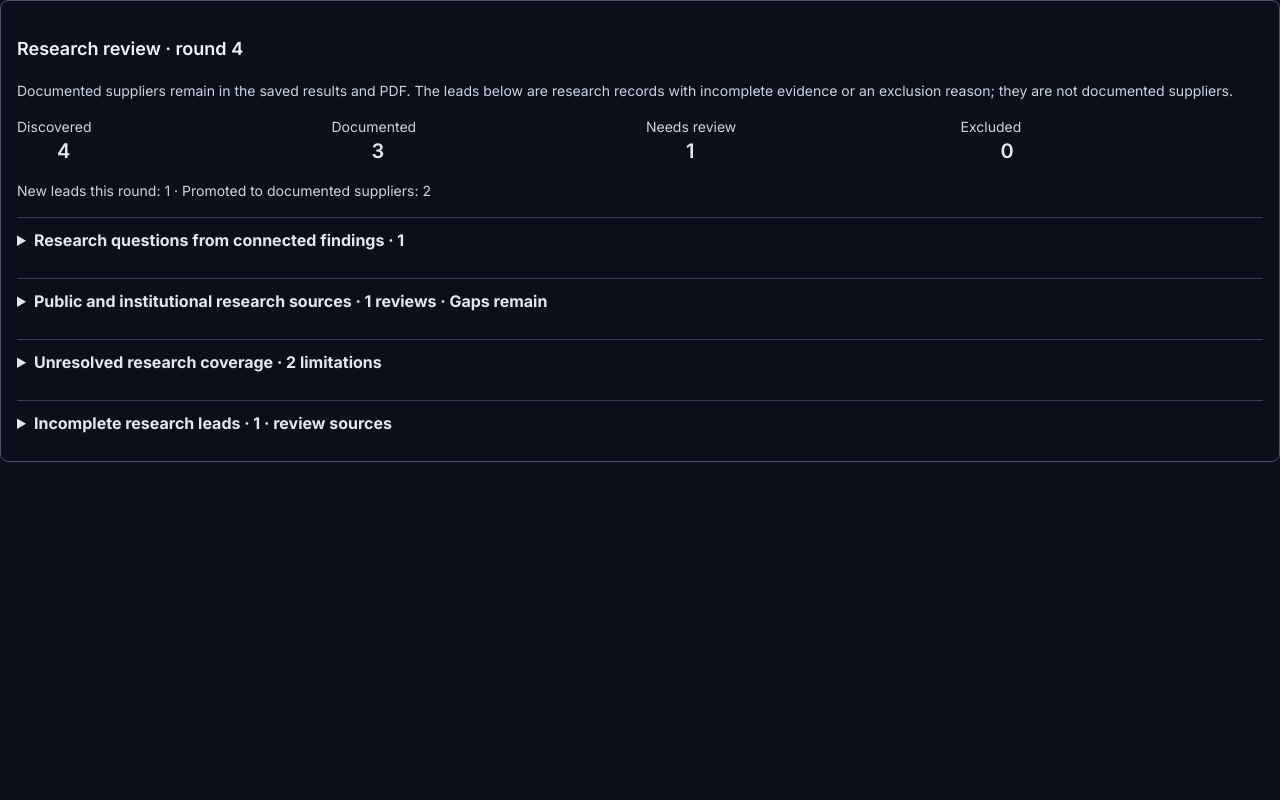
it: MB-UX-QUALITY-001 L11 keeps provider citations and limited access distinct from retrieved official evidence
Click the heading "Public and institutional research sources" at coordinates (291, 301), box top-left (34, 291), bottom-right (547, 311)
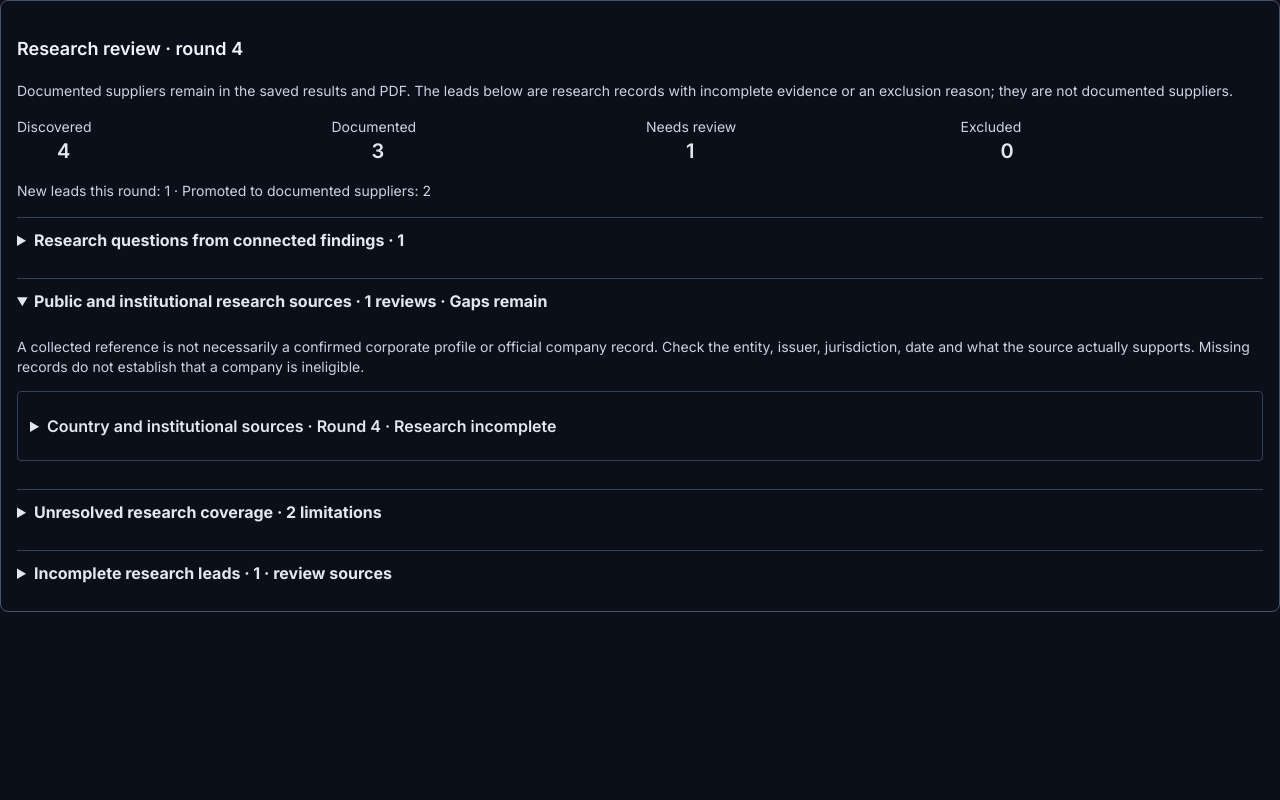
Click the heading "Country and institutional sources · Round 4" at coordinates (302, 426), box top-left (47, 416), bottom-right (556, 436)
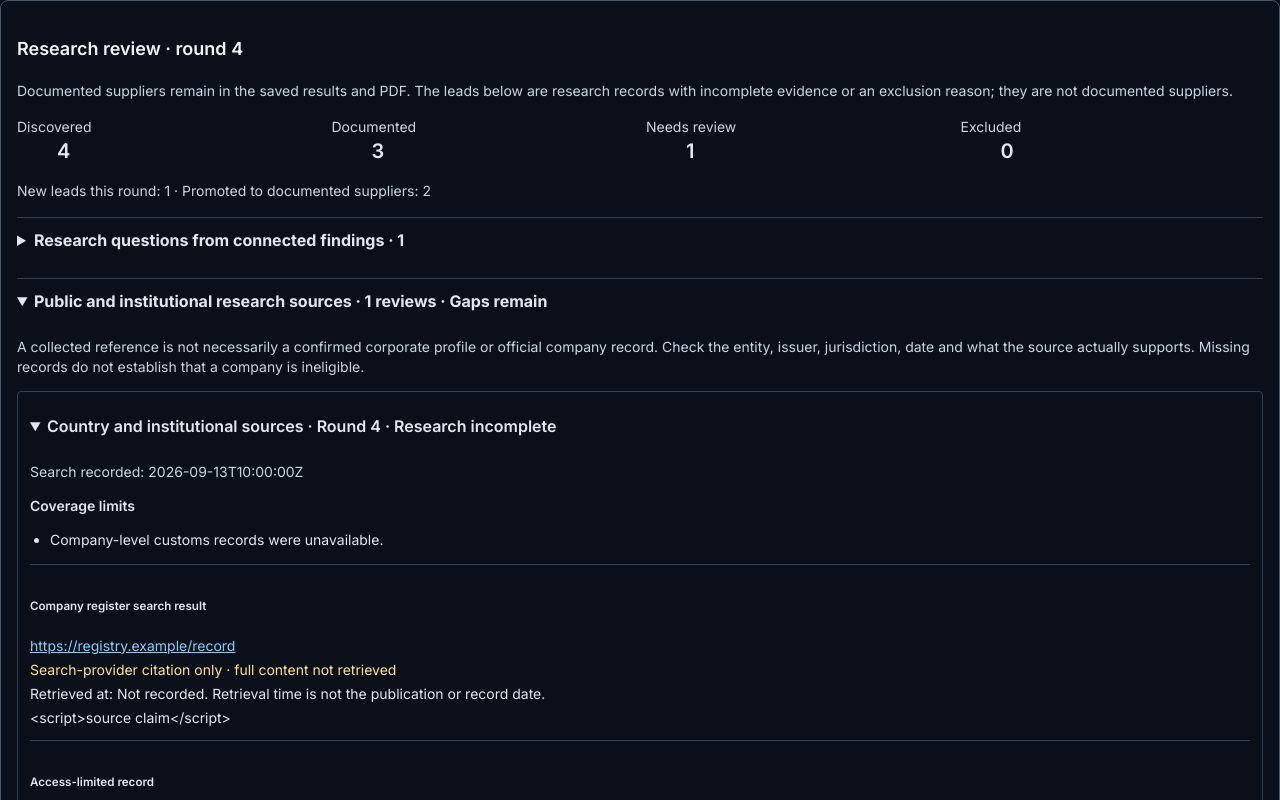
Now the text "not necessarily a confirmed corporate profile or official company record" is shown, box top-left (17, 338), bottom-right (1250, 375)
Now the list item "Company-level customs records were unavailable." is shown, box top-left (50, 531), bottom-right (383, 548)
Now the text "Search-provider citation only · full content not retrieved" is shown, box top-left (30, 661), bottom-right (396, 678)
